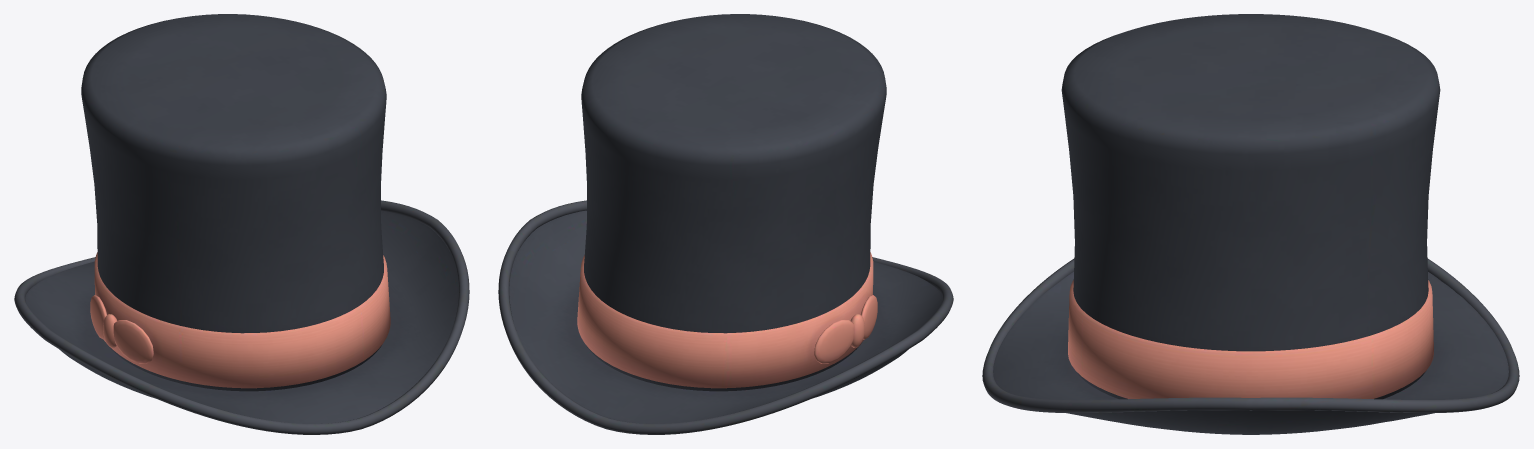
File: top-hat.glb
3 renders of one model, left to right at view 1: azimuth 30°, elevation 25°; view 2: azimuth 150°, elevation 25°; view 3: azimuth 270°, elevation 25°, orthographic. The views are drawn at different scales.
Visible parts, largest first — view 1: top-hat_body; view 2: top-hat_body; view 3: top-hat_body.
Part boxes in pixels (x1,y1,x2,y2): top-hat_body: (14, 14, 469, 434); top-hat_body: (498, 14, 953, 434); top-hat_body: (982, 14, 1519, 434).
Size of the model in its own units: 0.259 by 0.1705 by 0.2686.
1 material, 1 textured.
